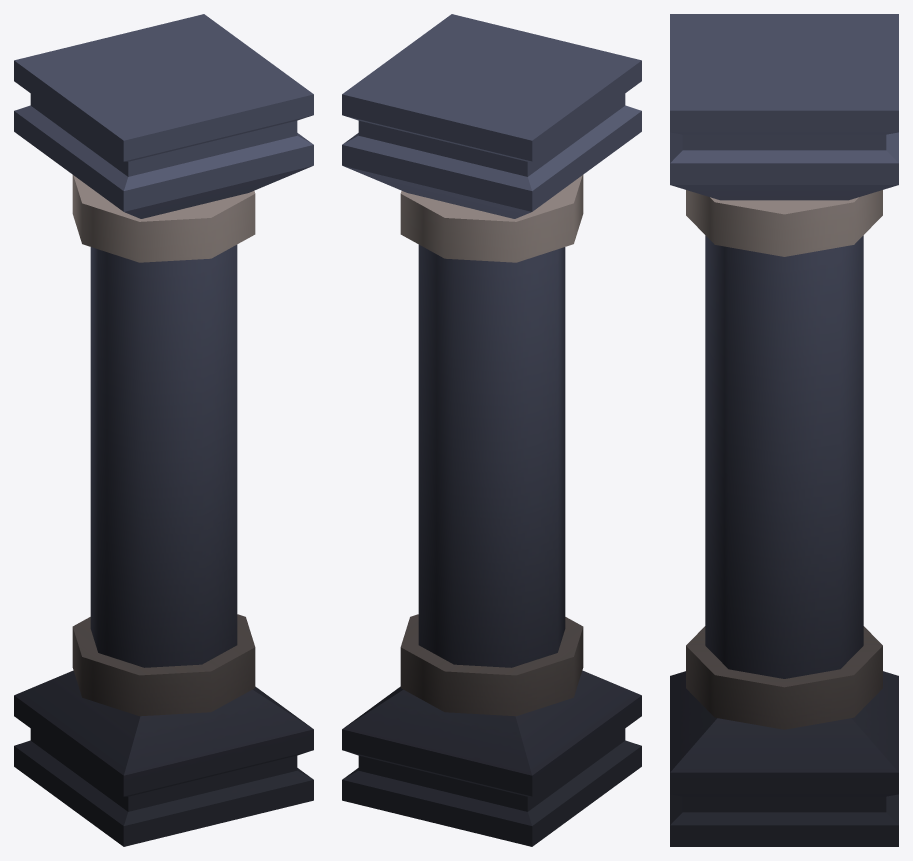
The model's file is SM_Pillar.fbx.
3 renders of one model, left to right at view 1: azimuth 30°, elevation 25°; view 2: azimuth 150°, elevation 25°; view 3: azimuth 270°, elevation 25°, orthographic. The views are drawn at different scales.
Visible parts, largest first — view 1: Pillar; view 2: Pillar; view 3: Pillar.
Part boxes in pixels (<box>): Pillar: <box>14,14,313,846</box>; Pillar: <box>342,14,641,846</box>; Pillar: <box>670,14,898,846</box>.
Bounding box in the file's own units: 46.3 × 164 × 46.3.
Materials: 1 (1 with a texture image).
